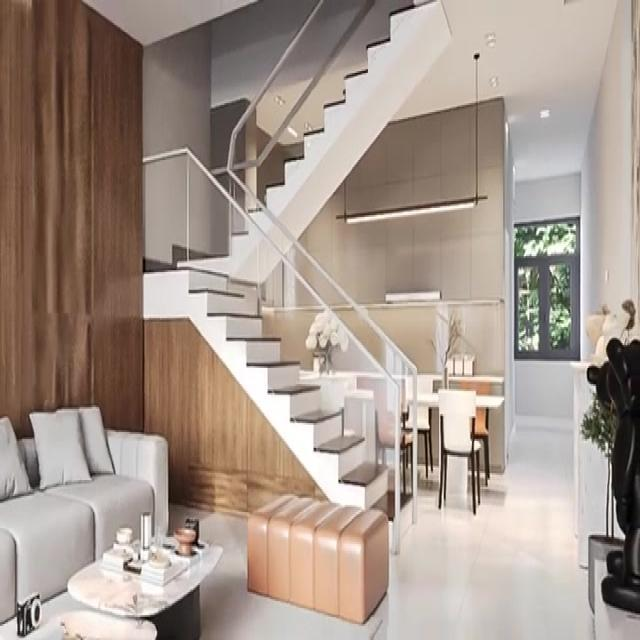obstacle: (0, 406, 169, 630), (250, 495, 390, 623), (66, 532, 223, 638), (435, 385, 483, 518)
